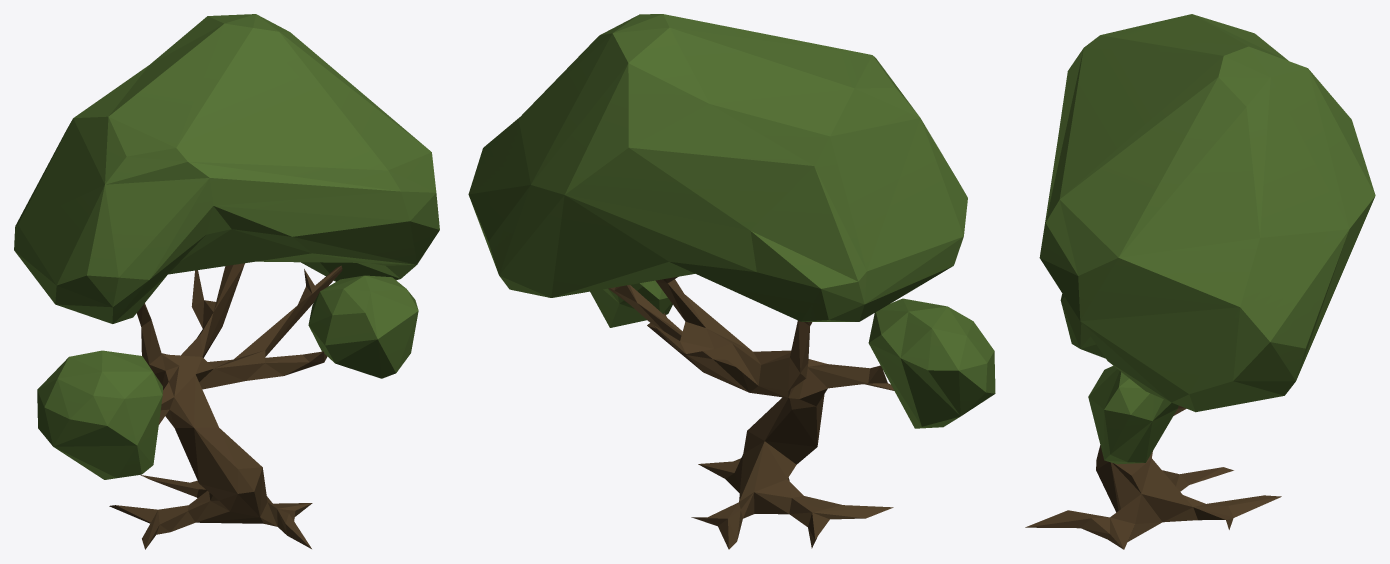
File: Tree09_Graft.glb
3 views of the same model, side by side, from view 1: azimuth 30°, elevation 25°; view 2: azimuth 150°, elevation 25°; view 3: azimuth 270°, elevation 25° (orthographic). The views are drawn at different scales.
Parts seen in each view (by area): view 1: Tree09_Graft_LOD0; view 2: Tree09_Graft_LOD0; view 3: Tree09_Graft_LOD0.
Boxes of the visible parts, <box> form: Tree09_Graft_LOD0: <box>14,14,439,549</box>; Tree09_Graft_LOD0: <box>468,14,995,549</box>; Tree09_Graft_LOD0: <box>1025,14,1375,549</box>.
Size of what is drawn, in the model's own units: 6.82 by 7.23 by 4.63.
